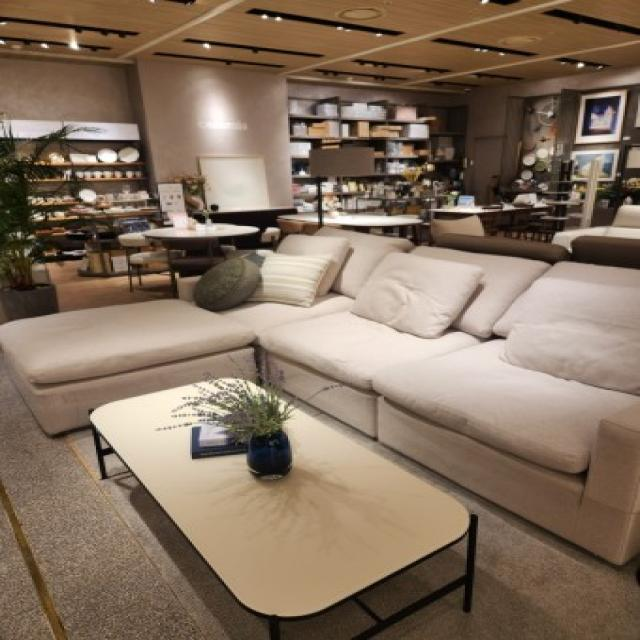Sofa: (12, 217, 637, 519)
Table: (90, 368, 483, 627)
